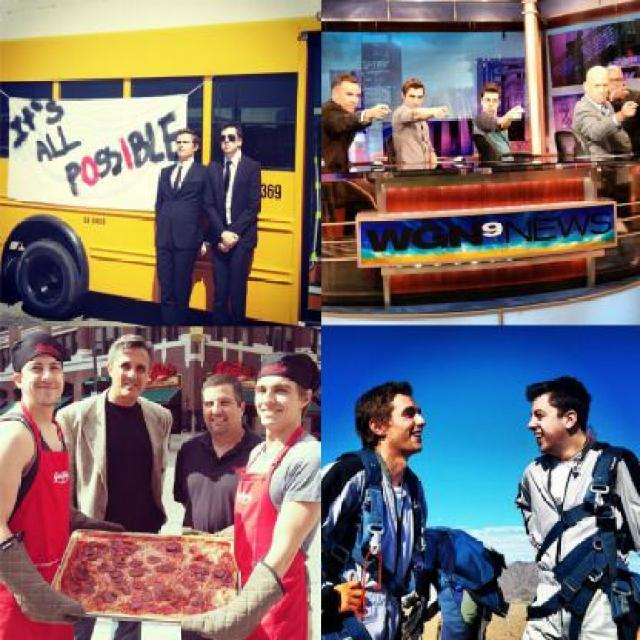Pizza: (45, 530, 238, 614)
